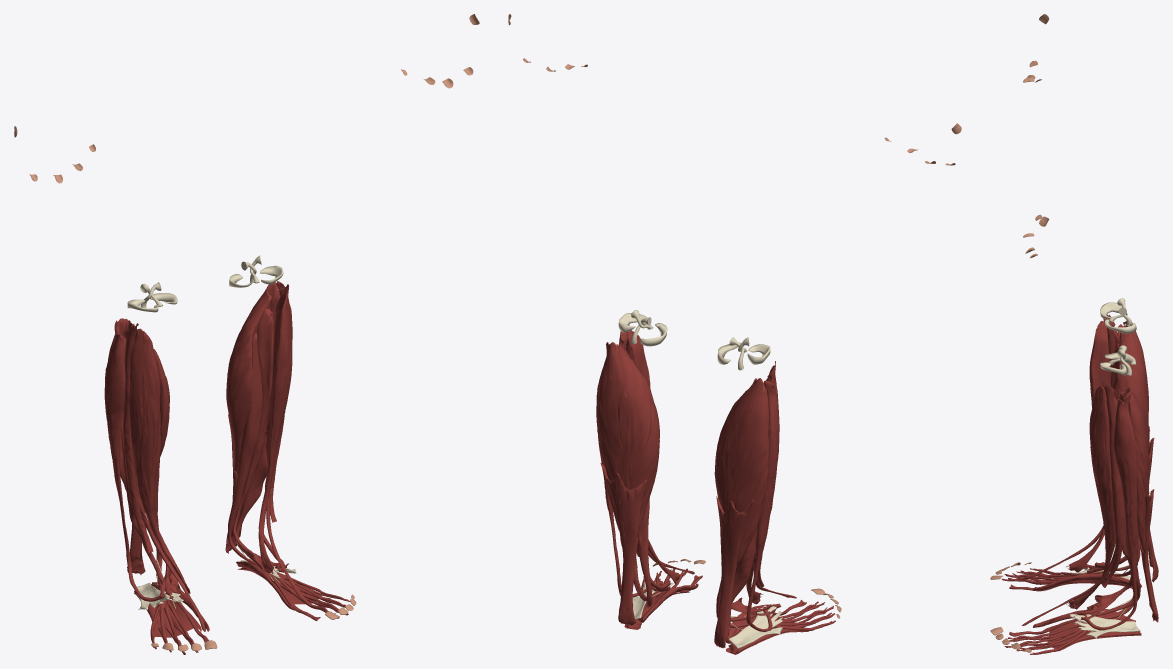
Rendered from joints.glb.
3 views of the same model, side by side, from view 1: azimuth 30°, elevation 25°; view 2: azimuth 150°, elevation 25°; view 3: azimuth 270°, elevation 25° (orthographic). The views are drawn at different scales.
Visible parts, largest first — view 1: tibialis_anterior_r, tibialis_anterior_l, soleus_l, flexor_toes_l, fibularis_longus_r, tibialis_posterior_l, extensor_toes_r, flexor_toes_r, soleus_r, flexor_hallucis_l, flexor_hallucis_r, extensor_hallucis_r; view 2: soleus_l, soleus_r, achilles_l, achilles_r, fibularis_longus_r, flexor_toes_l, flexor_hallucis_r, plantar_ligament_r, flexor_toes_r, tibialis_anterior_l, flexor_brevis_r, fibularis_longus_l; view 3: fibularis_longus_l, tibialis_anterior_l, soleus_l, extensor_toes_l, soleus_r, tibialis_anterior_r, flexor_toes_l, flexor_hallucis_l, achilles_l, plantar_ligament_l, flexor_brevis_l, flexor_toes_r (+10 smaller).
Boxes of the visible parts, <box> form: tibialis_anterior_r: <box>129,328,190,593</box>; tibialis_anterior_l: <box>258,293,292,573</box>; soleus_l: <box>226,282,280,474</box>; flexor_toes_l: <box>228,333,349,618</box>; fibularis_longus_r: <box>104,320,173,601</box>; tibialis_posterior_l: <box>233,308,289,570</box>; extensor_toes_r: <box>123,322,153,552</box>; flexor_toes_r: <box>150,410,198,654</box>; soleus_r: <box>108,318,169,491</box>; flexor_hallucis_l: <box>235,434,320,620</box>; flexor_hallucis_r: <box>120,408,208,642</box>; extensor_hallucis_r: <box>132,445,205,631</box>; soleus_l: <box>597,342,659,531</box>; soleus_r: <box>714,378,768,563</box>; achilles_l: <box>600,463,646,625</box>; achilles_r: <box>714,496,754,648</box>; fibularis_longus_r: <box>746,380,779,631</box>; flexor_toes_l: <box>637,497,687,607</box>; flexor_hallucis_r: <box>730,525,806,621</box>; plantar_ligament_r: <box>728,605,782,648</box>; flexor_toes_r: <box>716,580,835,630</box>; tibialis_anterior_l: <box>626,330,679,584</box>; flexor_brevis_r: <box>728,601,834,653</box>; fibularis_longus_l: <box>596,342,663,597</box>; fibularis_longus_l: <box>1079,391,1137,630</box>; tibialis_anterior_l: <box>1066,386,1115,609</box>; soleus_l: <box>1119,387,1149,552</box>; extensor_toes_l: <box>1102,381,1125,587</box>; soleus_r: <box>1113,321,1149,450</box>; tibialis_anterior_r: <box>1066,321,1111,572</box>; flexor_toes_l: <box>1004,566,1138,654</box>; flexor_hallucis_l: <box>1009,505,1140,636</box>; achilles_l: <box>1140,489,1158,622</box>; plantar_ligament_l: <box>1069,614,1140,638</box>; flexor_brevis_l: <box>1008,629,1141,654</box>; flexor_toes_r: <box>1001,536,1138,583</box>.
Size of the model in its own units: 0.6801 by 0.773 by 0.2363.
